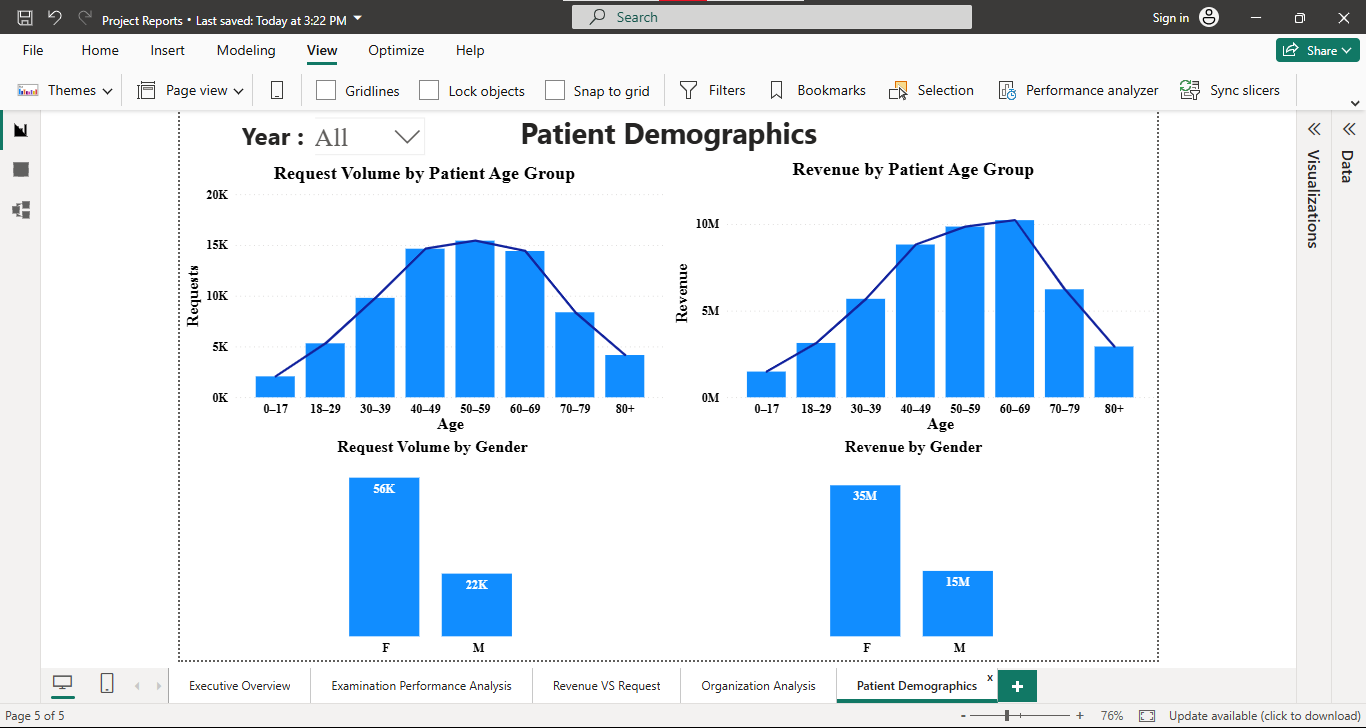

This screenshot's page, from the dashboard's own definition file:
{"tool":"powerbi","page":{"name":"Patient Demographics","canvas":[1280,720],"ordinal":4},"visuals":[{"type":"textbox","box":[412.4,0,454.3,68.1],"z":0},{"type":"slicer","fields":{"Values":["Bi Db Datamarts (2).Date.Variation.Hiérarchie de dates.Année"]},"box":[159.6,0,171.5,69.4],"z":2,"group":"g1"},{"type":"textbox","box":[75.8,5.2,100.8,58.9],"z":8,"group":"g1"},{"type":"lineClusteredColumnComboChart","title":"Request Volume by Patient Age Group","fields":{"Y":["Sum(Bi Db Datamarts (2).Nbr Demande - Non Organization Demande Fact)"],"Y2":["Sum(Bi Db Datamarts (2).Nbr Demande - Non Organization Demande Fact)"],"Category":["Bi Db Datamarts (2).Age Group"]},"box":[0,69.4,640.1,358.7],"z":1000},{"type":"lineClusteredColumnComboChart","title":"Revenue by Patient Age Group","fields":{"Y":["Sum(Bi Db Datamarts (2).CA - Non Organization Demande Fact)"],"Y2":["Sum(Bi Db Datamarts (2).CA - Non Organization Demande Fact)"],"Category":["Bi Db Datamarts (2).Age Group"]},"box":[640.1,64.1,640.1,363.9],"z":2000},{"type":"columnChart","title":"Request Volume by Gender","fields":{"Y":["Sum(Bi Db Datamarts (2).Nbr Demande - Non Organization Demande Fact)"],"Category":["Bi Db Datamarts (2).Patient Genre"]},"box":[107.3,428.1,446.4,291.9],"z":3000},{"type":"group","id":"g1","title":"Group 1","box":[75.8,0,255.2,69.1],"z":4000},{"type":"columnChart","title":"Revenue by Gender","fields":{"Y":["Sum(Bi Db Datamarts (2).CA - Non Organization Demande Fact)"],"Category":["Bi Db Datamarts (2).Patient Genre"]},"box":[737,428.1,446.4,291.9],"z":5000}]}

Visuals, with their boxes on the page's 1280x720 design canvas (x1, y1, x2, y2). These are canvas units, not pixel positions in the 1366x728 screenshot, which may show the page scaled, cropped or inside an application window:
textbox: (x1=412, y1=0, x2=867, y2=68)
slicer - Bi Db Datamarts (2).Date.Variation.Hiérarchie de dates.Année: (x1=160, y1=0, x2=331, y2=69)
textbox: (x1=76, y1=5, x2=177, y2=64)
"Request Volume by Patient Age Group" lineClusteredColumnComboChart: (x1=0, y1=69, x2=640, y2=428)
"Revenue by Patient Age Group" lineClusteredColumnComboChart: (x1=640, y1=64, x2=1280, y2=428)
"Request Volume by Gender" columnChart: (x1=107, y1=428, x2=554, y2=720)
"Group 1" group: (x1=76, y1=0, x2=331, y2=69)
"Revenue by Gender" columnChart: (x1=737, y1=428, x2=1183, y2=720)
